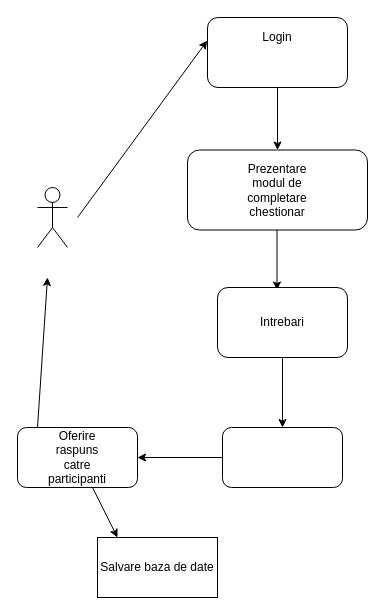
Image size: 385x615. Some labels were removed from this diagram. Each missing label, with the centre of its shape:
"Actor" belongs at (52,217).
"Interpretare intrebari si afisare raspuns" belongs at (282,457).
